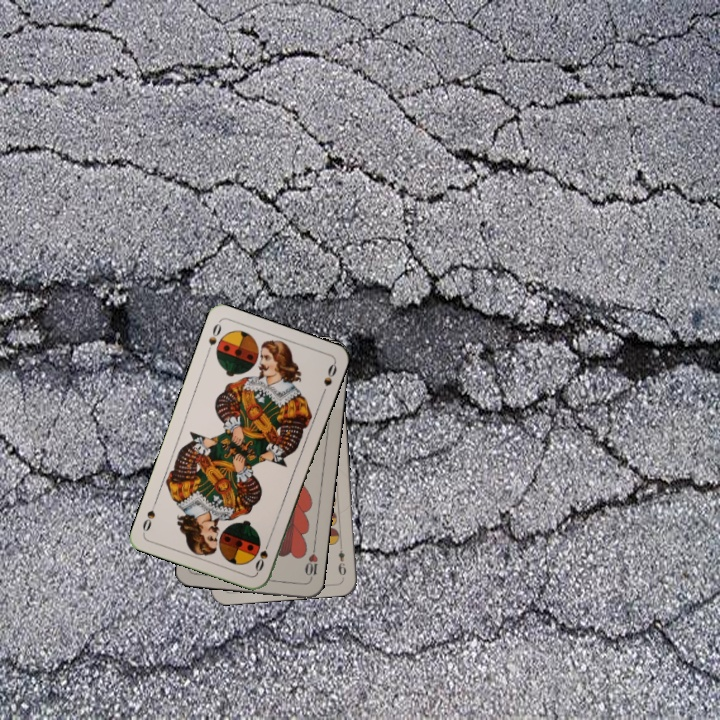E9: (334, 546, 349, 578)
H10: (301, 543, 320, 583)
SO: (251, 536, 272, 575), (203, 319, 224, 358)
